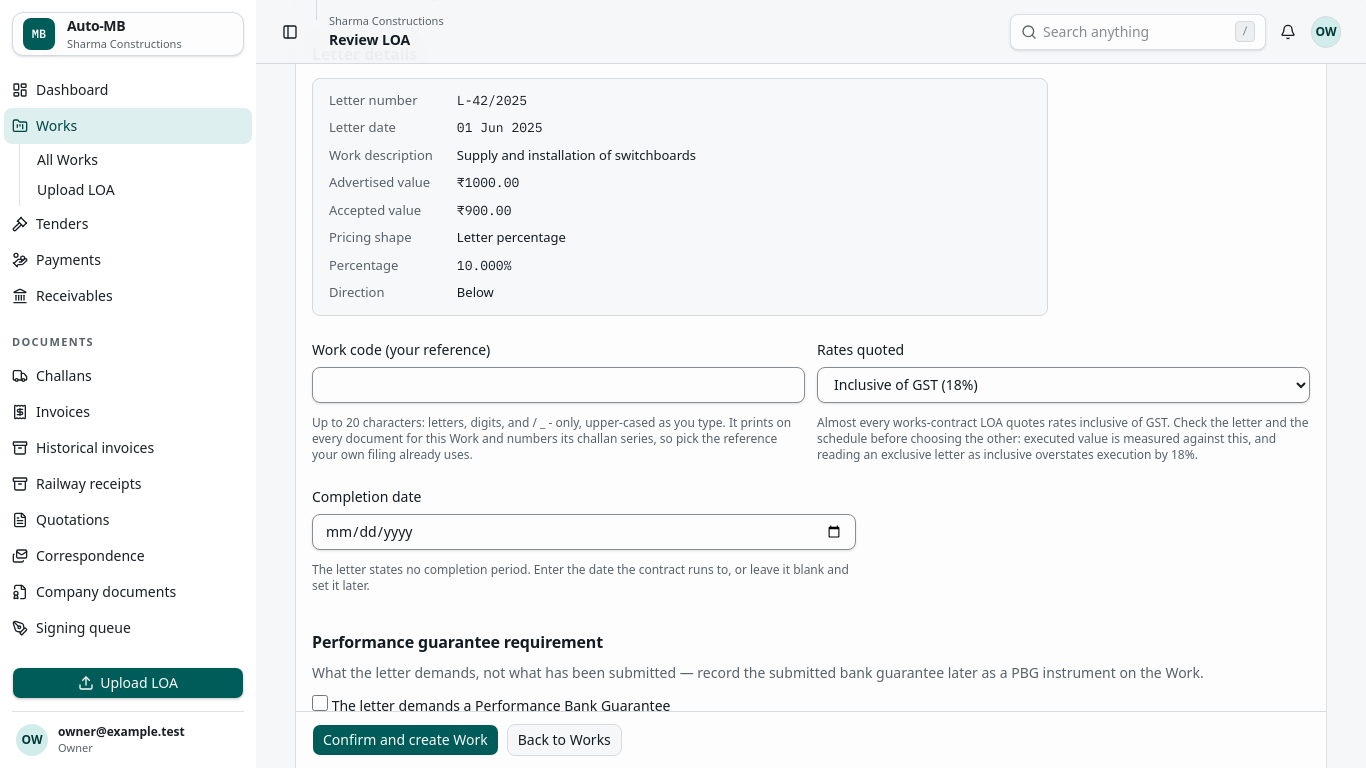
Test case: the payment setup prompt after a Work is created › opens once on the Work the confirmation created
The width and height of the screenshot is (1366, 768).
(page scrolled)
Type "PL270-CRB" into the field labelled "Work code (your reference)" at (558, 385), box [312,367,805,403]
(page scrolled)
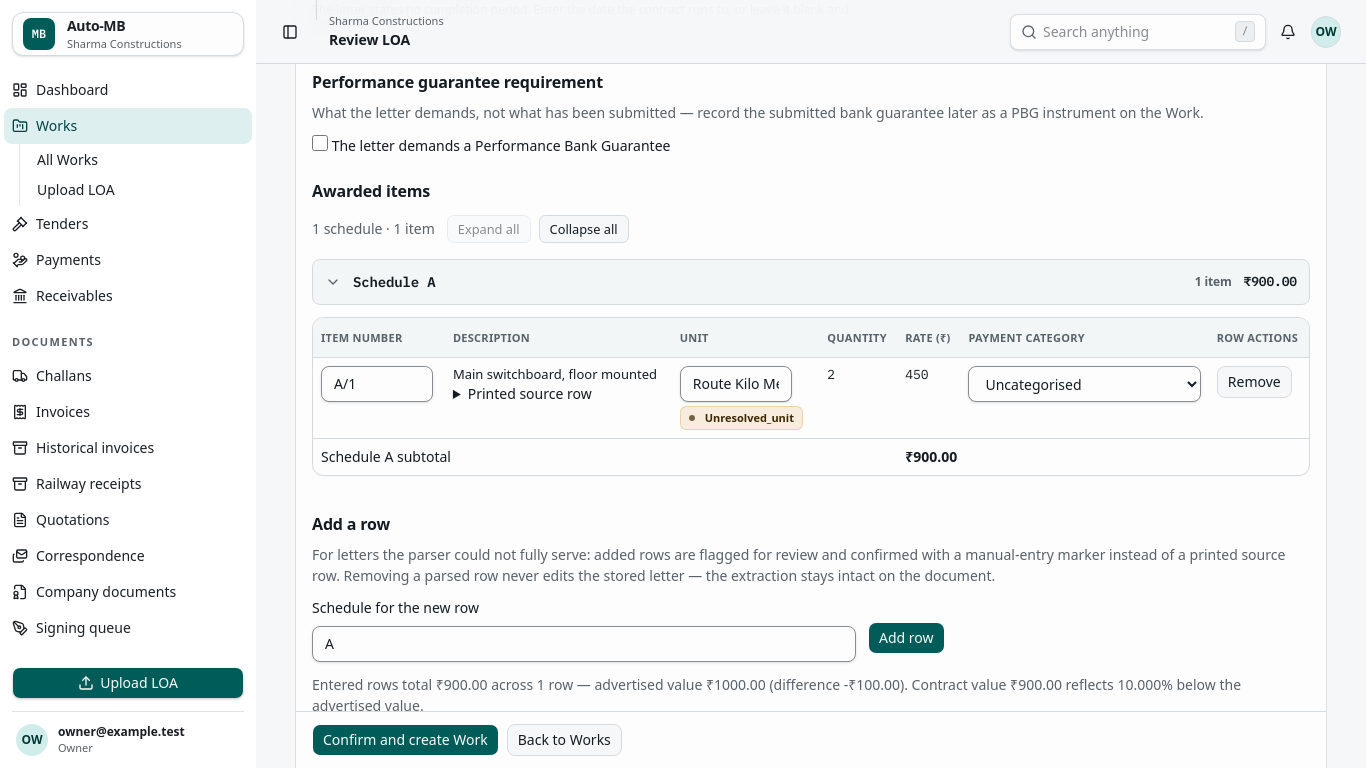
Replace the text in the field named "Unit for row 1 in schedule A" with "ROUTE_KILOMETRE" at (736, 384), box [680,366,792,402]
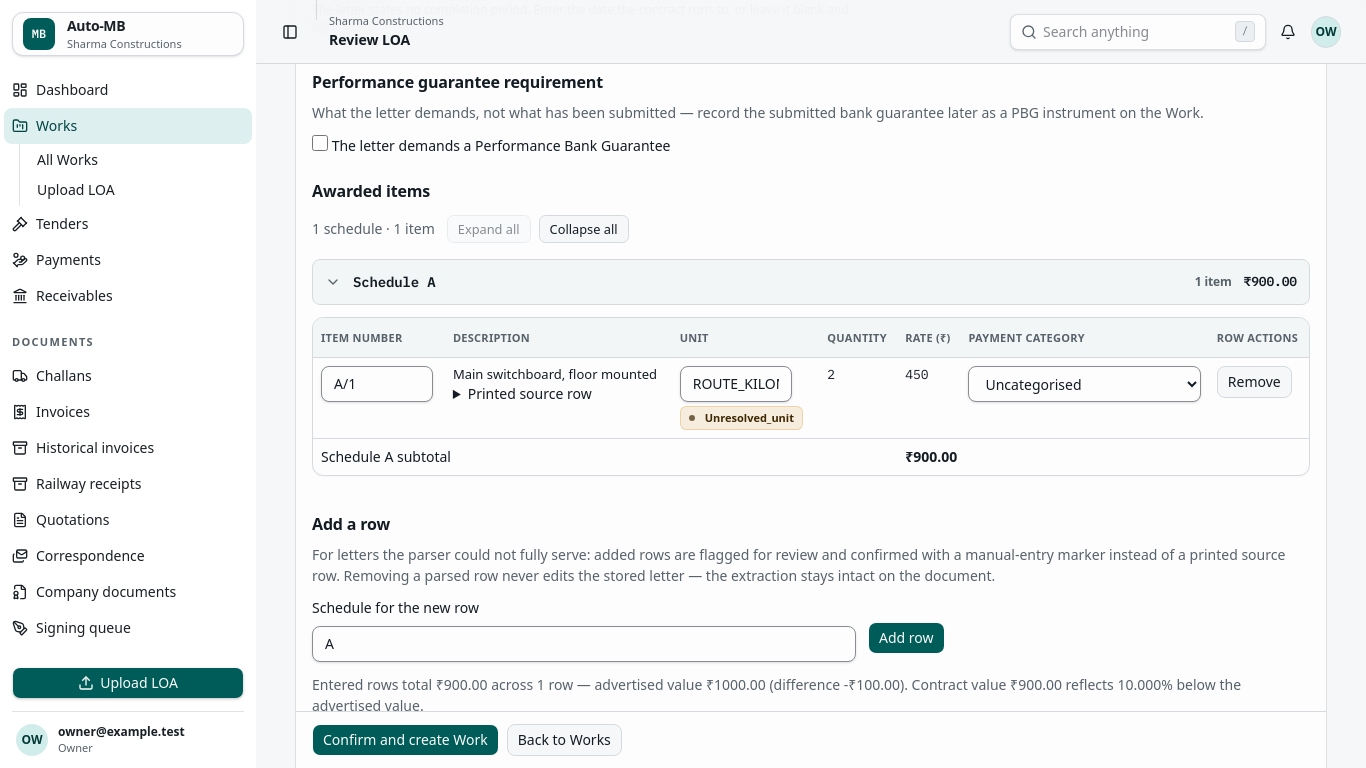
Click the button "Confirm and create Work" at (405, 740), box [312,724,499,756]
(page scrolled)
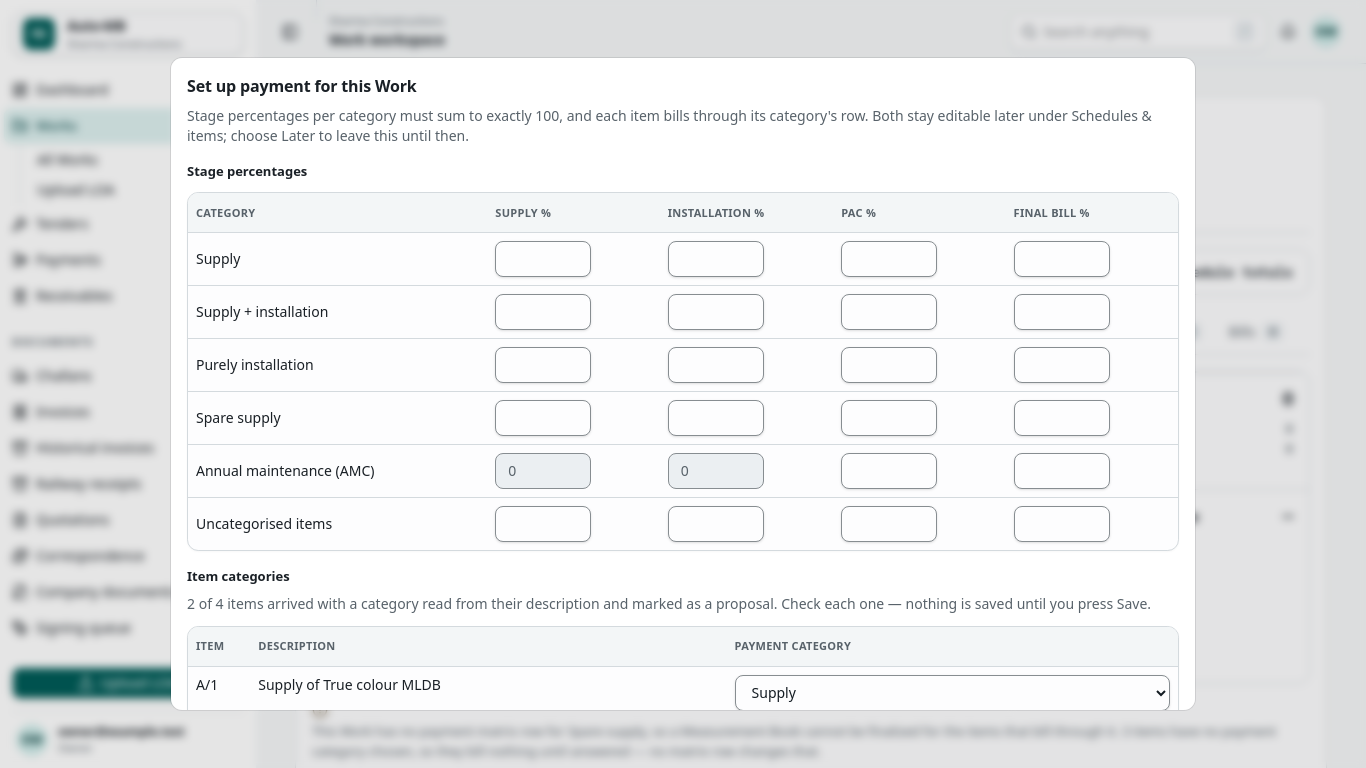
Expected: the dialog "Set up payment for this Work" is shown
